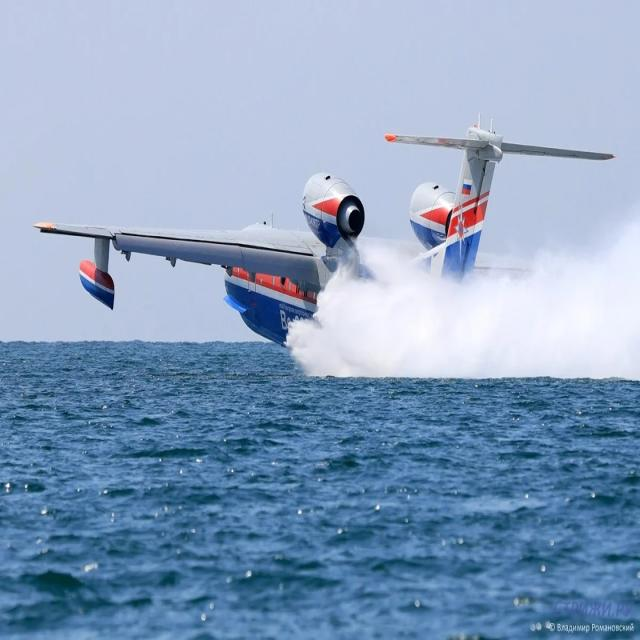MIL_Plane: (0, 111, 361, 350)
